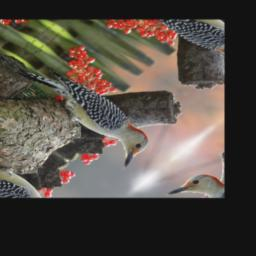Woodpecker: (0, 51, 169, 173)
